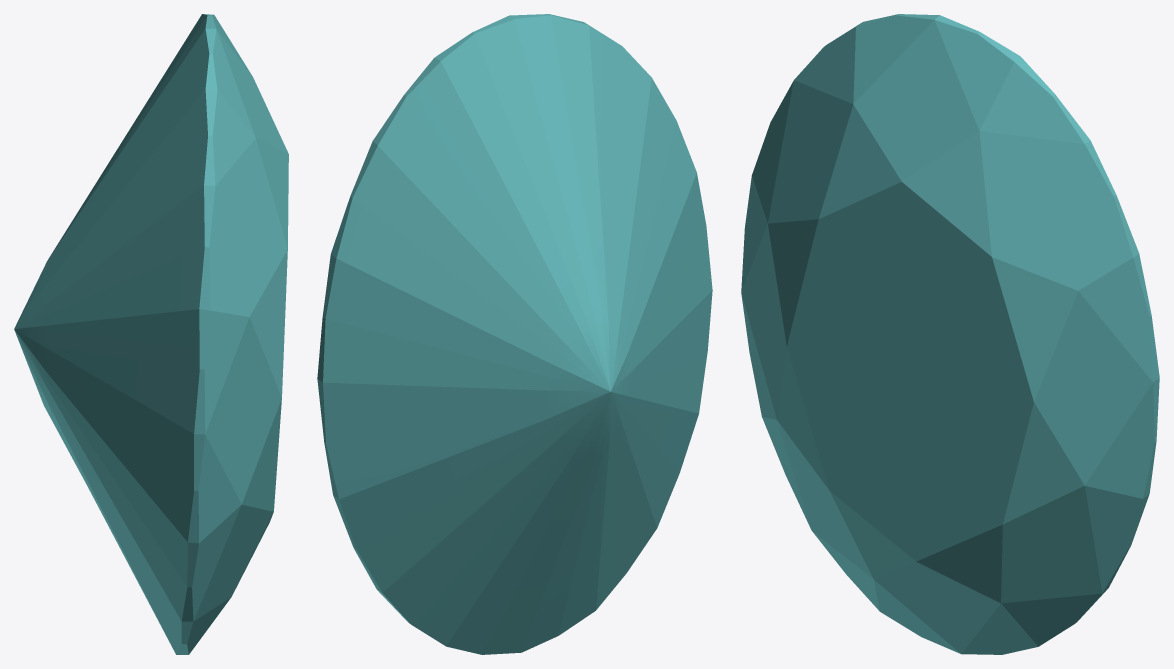
File: BR4_8shapes_Oval_Classic_Stone.001 2.glb
3 views of the same model, side by side, from view 1: azimuth 30°, elevation 25°; view 2: azimuth 150°, elevation 25°; view 3: azimuth 270°, elevation 25° (orthographic). The views are drawn at different scales.
Parts seen in each view (by area): view 1: BR4_8shapes_Oval_Classic_Stone.001; view 2: BR4_8shapes_Oval_Classic_Stone.001; view 3: BR4_8shapes_Oval_Classic_Stone.001.
Part boxes in pixels (x1,y1,x2,y2): BR4_8shapes_Oval_Classic_Stone.001: (14, 14, 288, 654); BR4_8shapes_Oval_Classic_Stone.001: (317, 14, 712, 654); BR4_8shapes_Oval_Classic_Stone.001: (741, 14, 1159, 654).
Bounding box in the file's own units: 0.2697 × 0.6135 × 0.3613.
